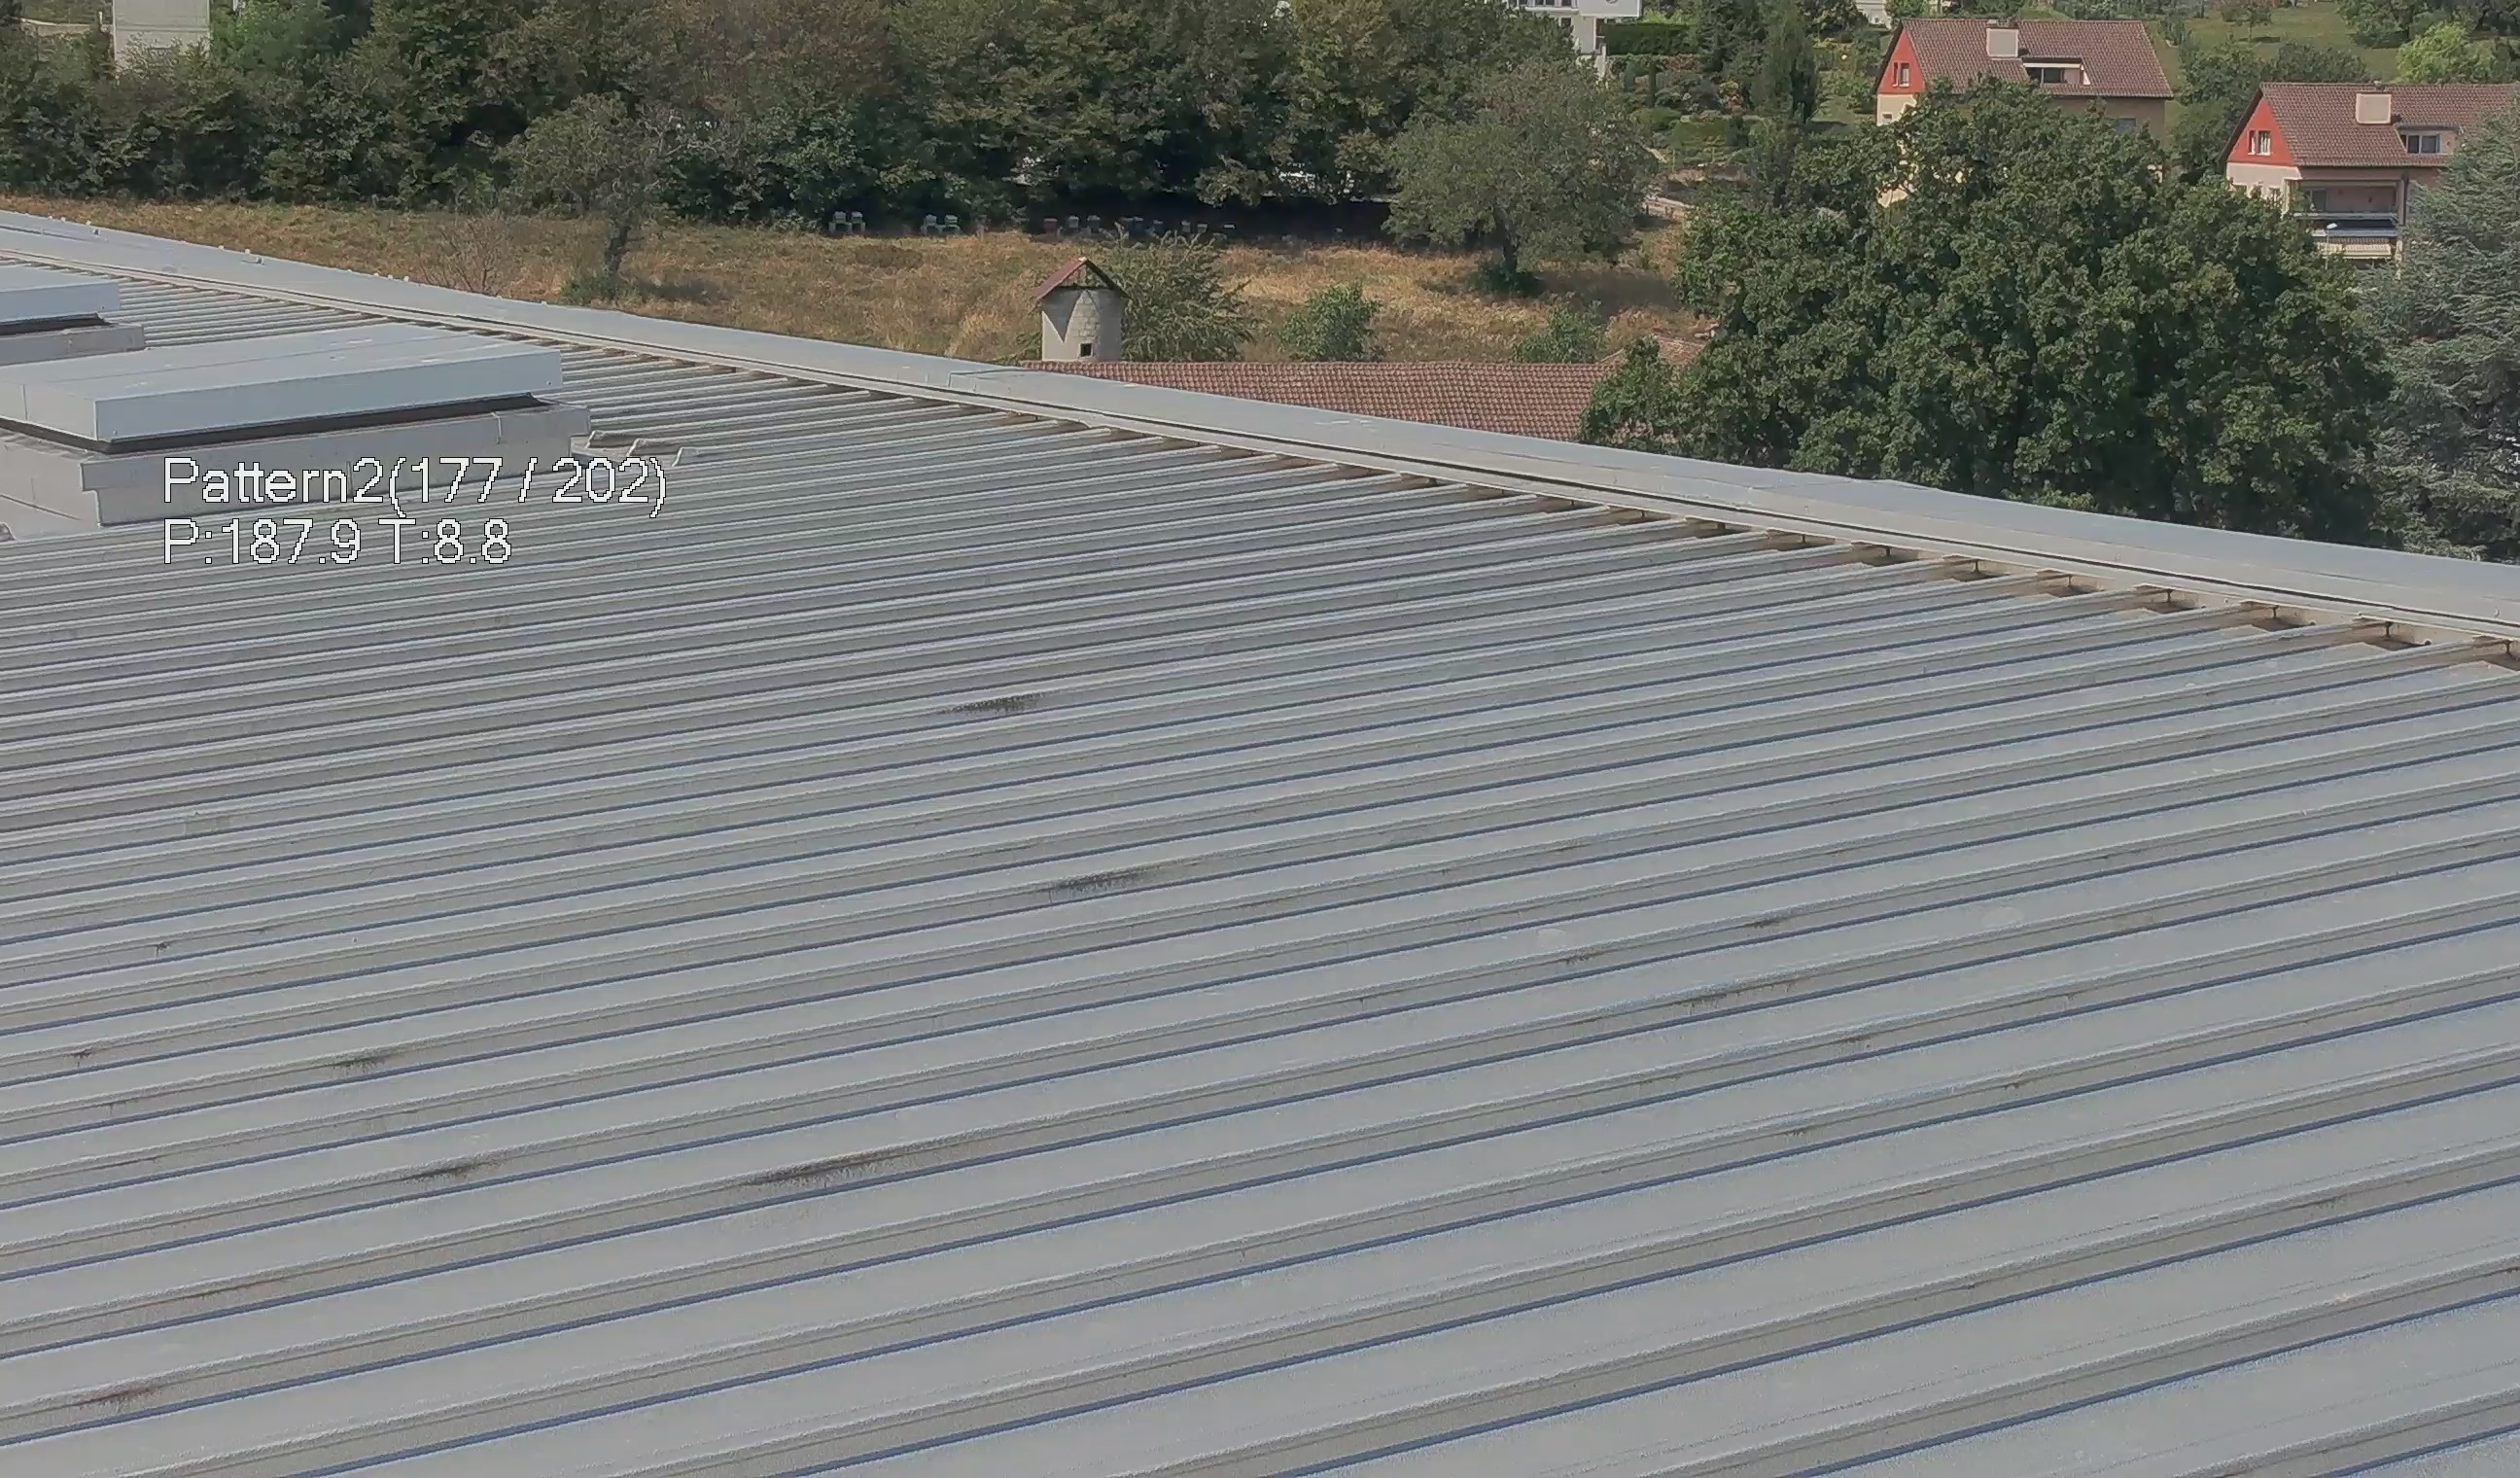Other: (1025, 246, 1140, 371)
